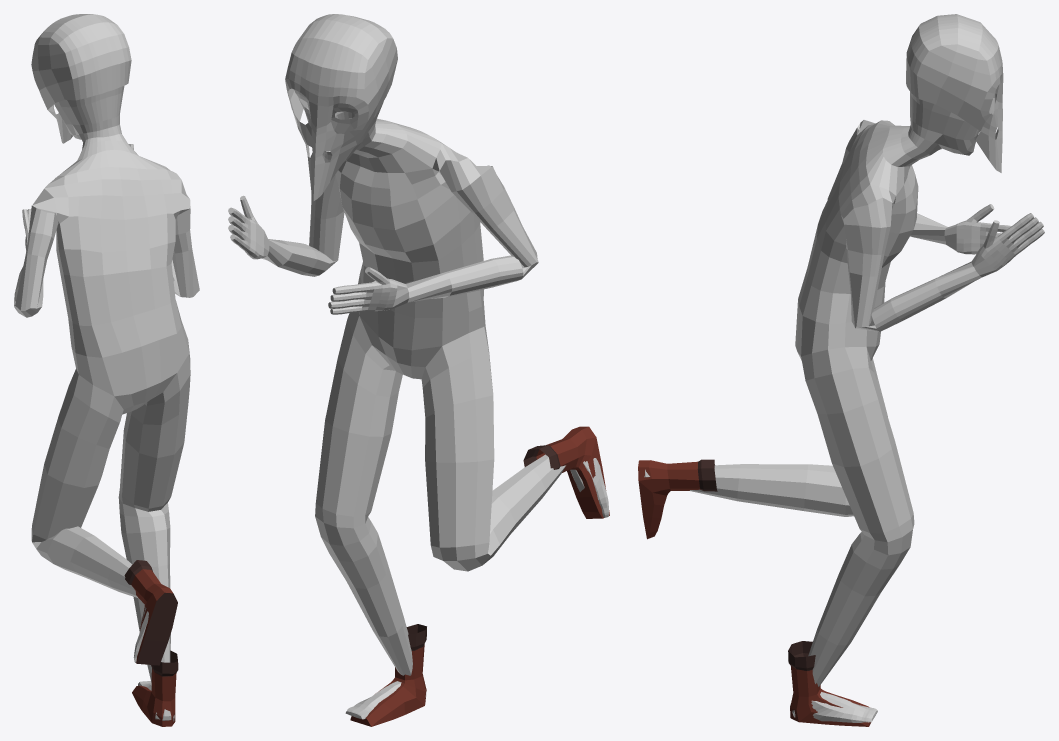
File: correr_000134.obj
The picture shows the model from 3 angles, left to right: view 1: azimuth 30°, elevation 25°; view 2: azimuth 150°, elevation 25°; view 3: azimuth 270°, elevation 25°; orthographic projection. The views are drawn at different scales.
Parts seen in each view (by area): view 1: Plane.002_Plane.001, Plane.004, Plane.003; view 2: Plane.002_Plane.001, Plane.004, Plane.003; view 3: Plane.002_Plane.001, Plane.004, Plane.003.
Part boxes in pixels (x1,y1,x2,y2): Plane.002_Plane.001: [14, 14, 199, 721]; Plane.004: [124, 560, 177, 665]; Plane.003: [132, 650, 178, 726]; Plane.002_Plane.001: [228, 14, 608, 719]; Plane.004: [523, 426, 609, 518]; Plane.003: [350, 624, 426, 726]; Plane.002_Plane.001: [644, 14, 1044, 722]; Plane.004: [638, 459, 717, 539]; Plane.003: [788, 641, 871, 726].
Bounding box in the file's own units: 2.01 × 6.54 × 3.49.
